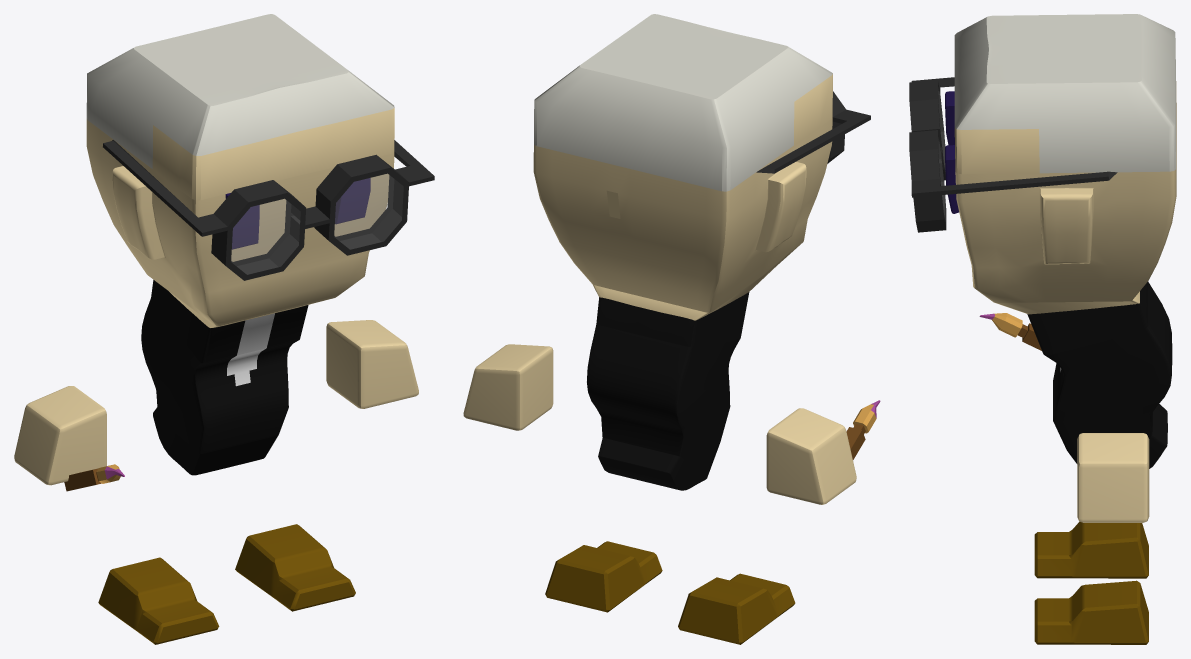
File: Peintre.fbx
3 views of the same model, side by side, from view 1: azimuth 30°, elevation 25°; view 2: azimuth 150°, elevation 25°; view 3: azimuth 270°, elevation 25° (orthographic). The views are drawn at different scales.
Visible parts, largest first — view 1: Peintre; view 2: Peintre; view 3: Peintre.
Boxes of the visible parts, x1=… form: Peintre: x1=14, y1=14, x2=434, y2=644; Peintre: x1=463, y1=14, x2=880, y2=644; Peintre: x1=909, y1=14, x2=1176, y2=644.
Size of the model in its own units: 4.76 by 6.73 by 2.97.
